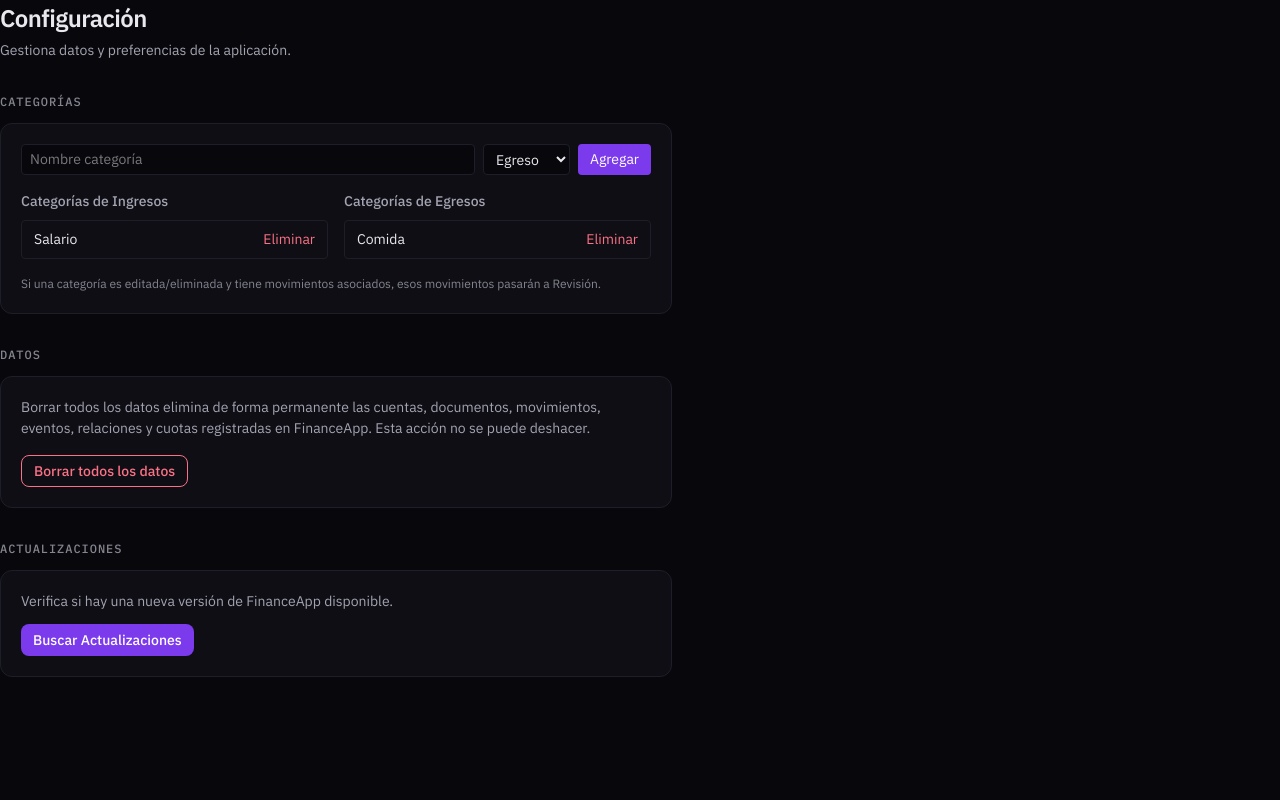
Scenario: SettingsPage › purges only after the destructive confirmation
Expected: the text "Comida" is shown, [357,229,405,250]
Click the button "Borrar todos los datos" at (105, 471), box [21,455,188,487]
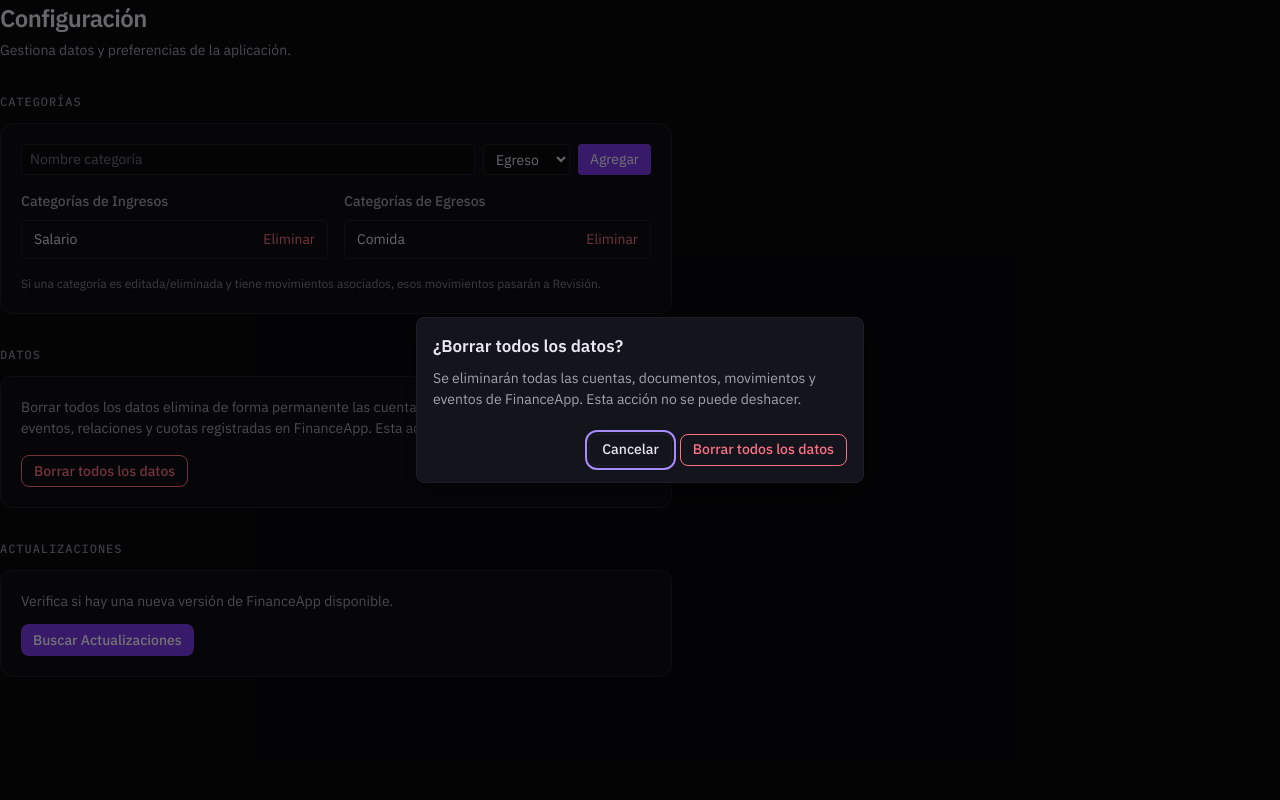
Click the button "Borrar todos los datos" at (763, 450), box [680,434,847,466]
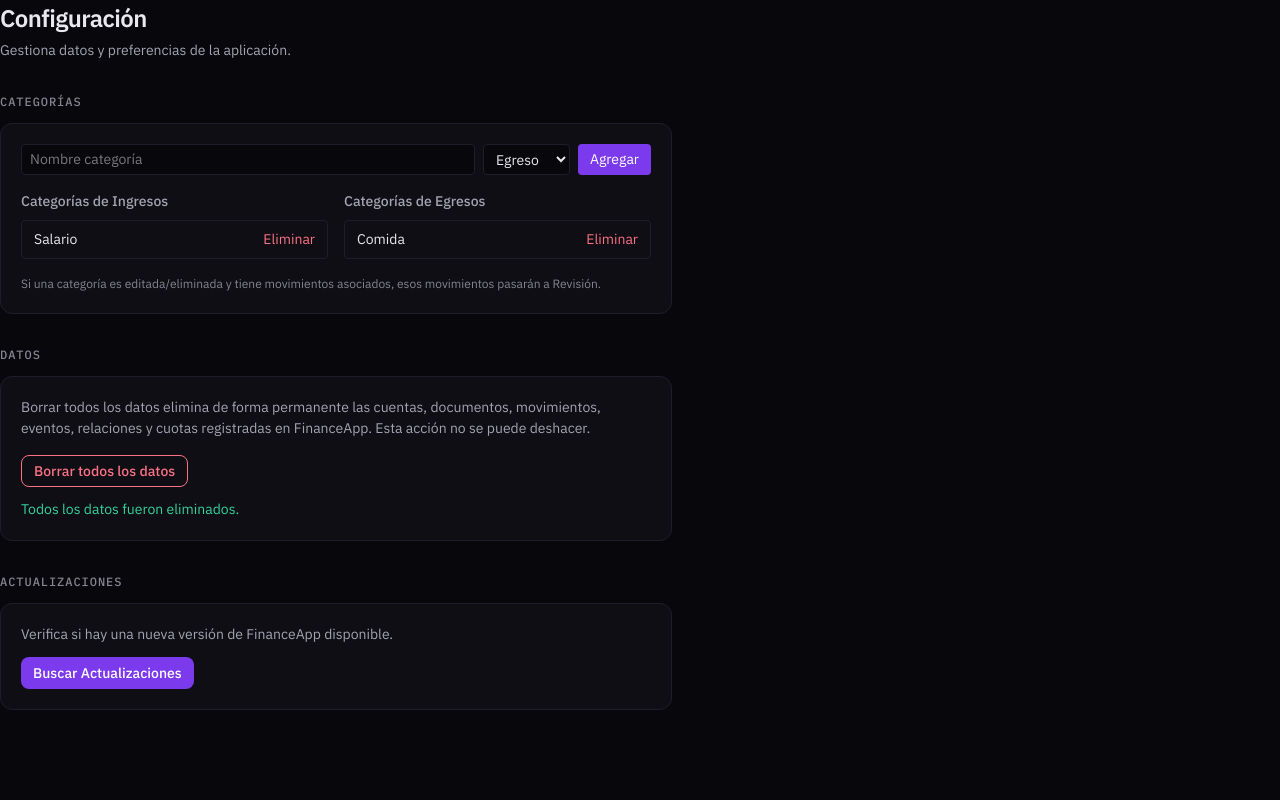
Expected: the text "Todos los datos fueron eliminados." is shown, [21,500,239,518]
Expected: the dialog is gone
